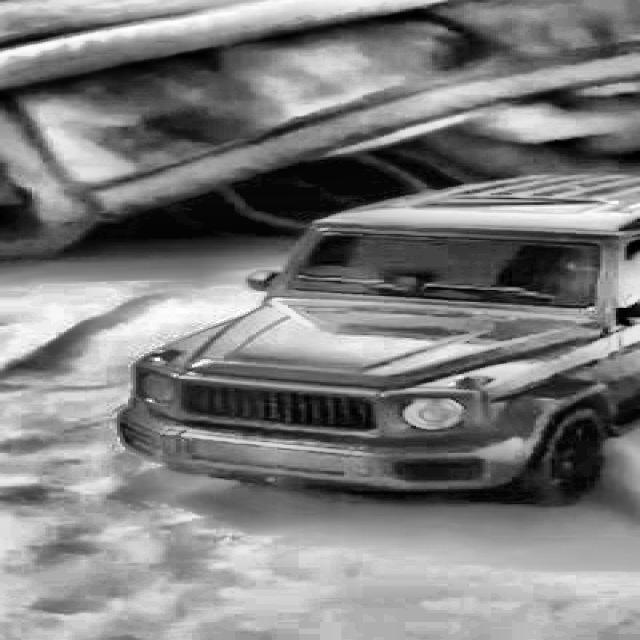light_vehicle: (80, 165, 640, 502)
